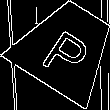P_NE: (37, 17, 96, 79)
